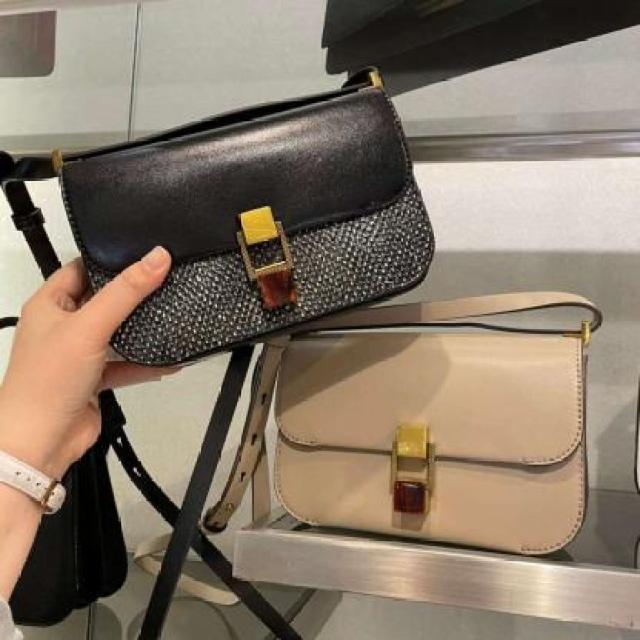Bag: (1, 60, 605, 378), (178, 271, 640, 587)
